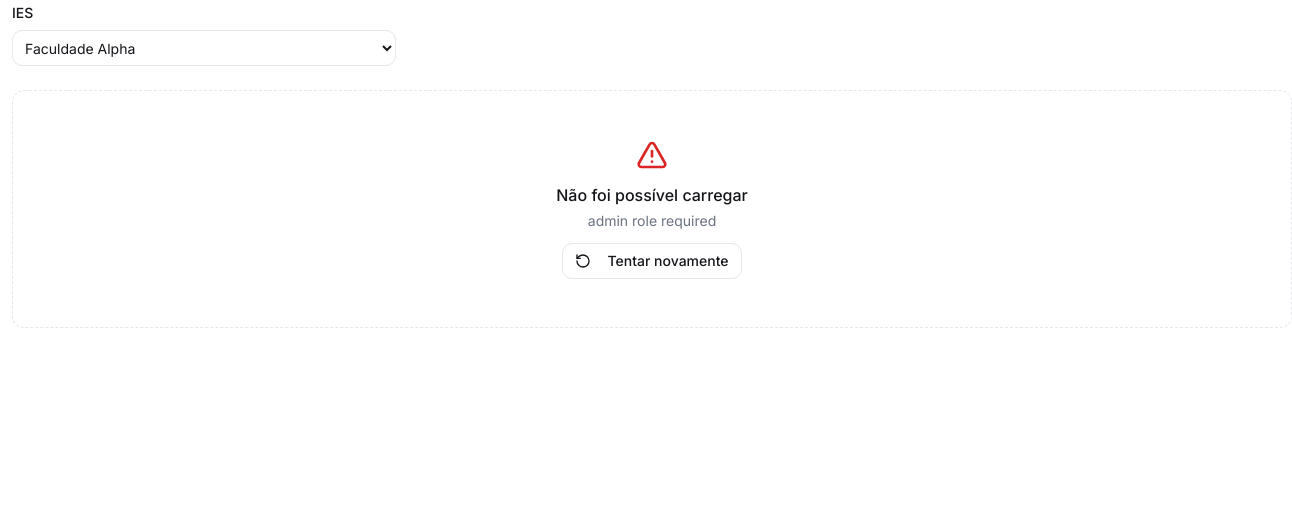
Test case: ContratoSimuladosBoard › erro no carregamento mostra AdminError com a mensagem e permite tentar de novo
The width and height of the screenshot is (1292, 509).
Expected: the text "admin role required" is shown, [588,212,716,229]
Click the button "Tentar novamente".
click(652, 261)  # box [562,243,742,279]
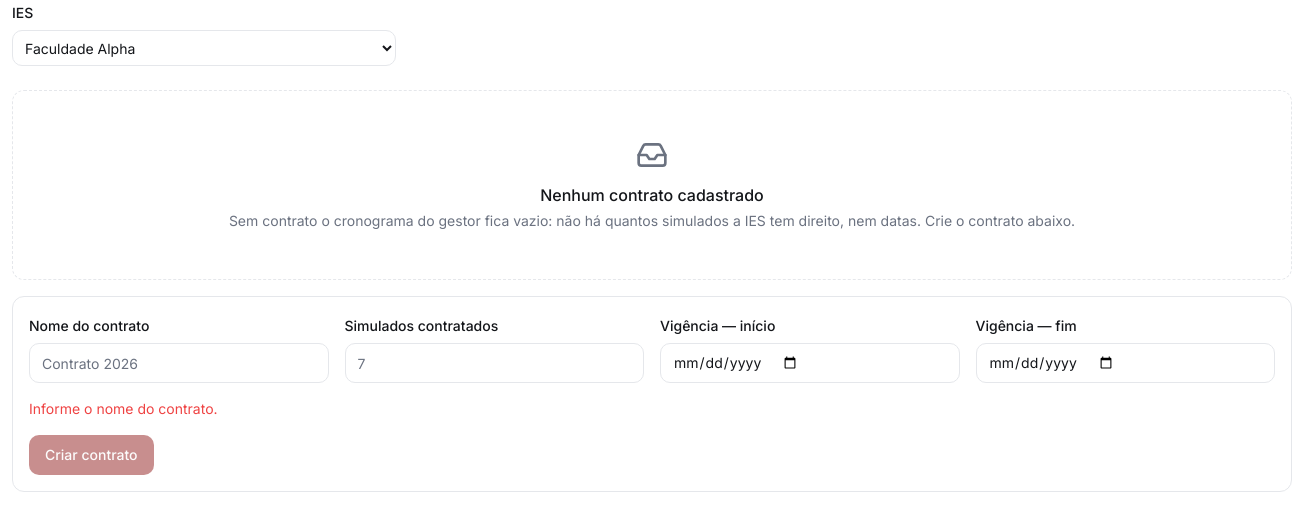
Result: the text "Nenhum contrato cadastrado" is shown at [540,185,764,205]
